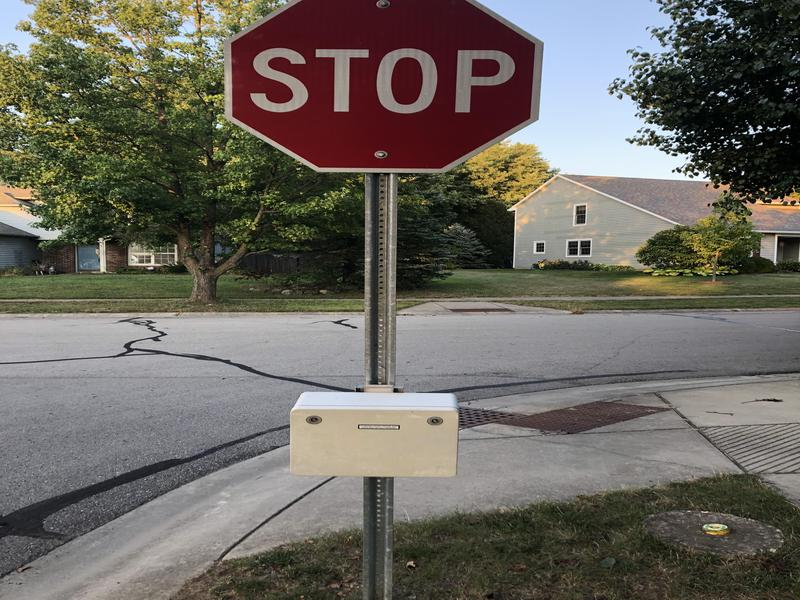stop: (224, 1, 545, 176)
